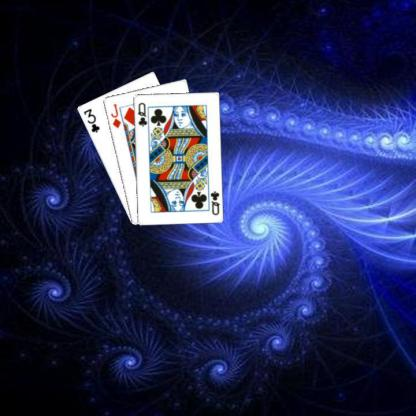3C: (81, 106, 100, 133)
JD: (108, 101, 122, 130)
QC: (207, 188, 221, 216), (135, 100, 148, 128)
